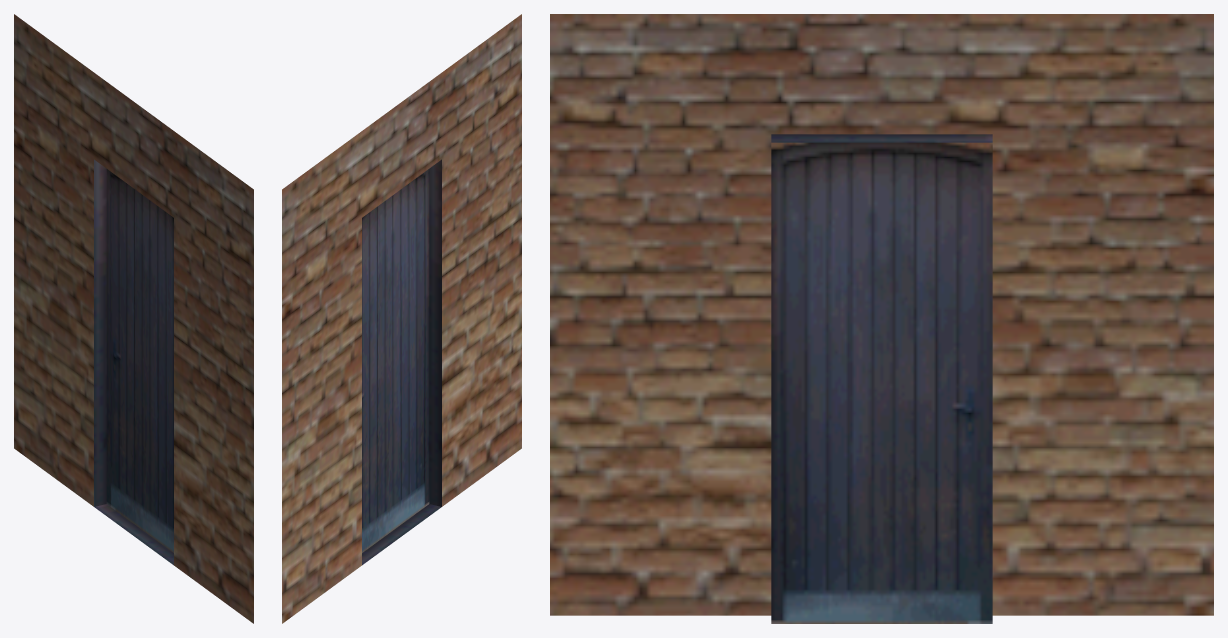
Rendered from Urban_BrickWallDoorIndent_Model.fbx.
The picture shows the model from 3 angles, left to right: view 1: azimuth 30°, elevation 25°; view 2: azimuth 150°, elevation 25°; view 3: azimuth 270°, elevation 25°; orthographic projection. The views are drawn at different scales.
Parts seen in each view (by area): view 1: Urban_BrickWallDoorIndent_Mesh; view 2: Urban_BrickWallDoorIndent_Mesh; view 3: Urban_BrickWallDoorIndent_Mesh.
Part boxes in pixels (bbox=[...]): Urban_BrickWallDoorIndent_Mesh: bbox=[14, 14, 253, 623]; Urban_BrickWallDoorIndent_Mesh: bbox=[282, 14, 521, 623]; Urban_BrickWallDoorIndent_Mesh: bbox=[550, 14, 1213, 623].
Size of the model in its own units: 0.0635 by 2.1 by 2.1.
